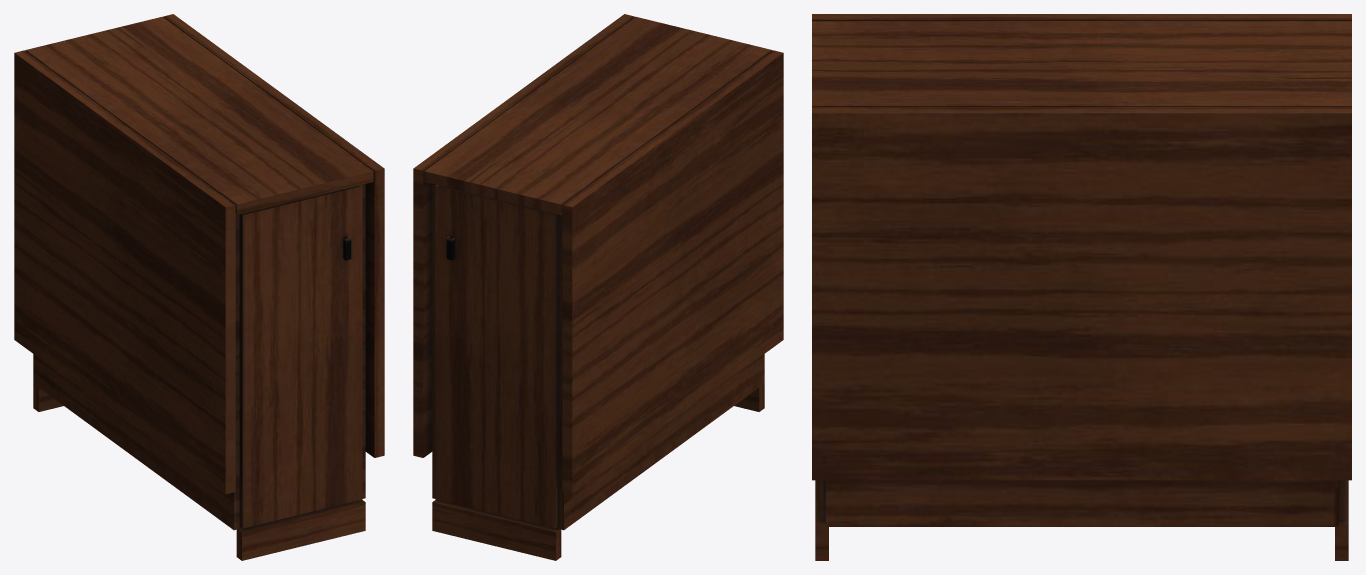
File: table_book_closed_web.glb
3 renders of one model, left to right at view 1: azimuth 30°, elevation 25°; view 2: azimuth 150°, elevation 25°; view 3: azimuth 270°, elevation 25°, orthographic. The views are drawn at different scales.
Visible parts, largest first — view 1: TableBookClosed_Body, Leaf_L_Mesh, Leaf_R_Mesh; view 2: TableBookClosed_Body, Leaf_L_Mesh, Leaf_R_Mesh; view 3: Leaf_R_Mesh, TableBookClosed_Body, Leaf_L_Mesh.
Boxes of the visible parts, x1,y1,x2,y2 form: TableBookClosed_Body: (25, 16, 373, 560); Leaf_L_Mesh: (14, 50, 235, 494); Leaf_R_Mesh: (163, 14, 384, 457); TableBookClosed_Body: (424, 16, 772, 560); Leaf_L_Mesh: (562, 50, 783, 494); Leaf_R_Mesh: (413, 14, 634, 457); Leaf_R_Mesh: (812, 107, 1351, 480); TableBookClosed_Body: (812, 21, 1351, 560); Leaf_L_Mesh: (812, 14, 1351, 20).
Bounding box in the file's own units: 0.3479 × 0.7501 × 0.8.
1 material, 1 textured.
